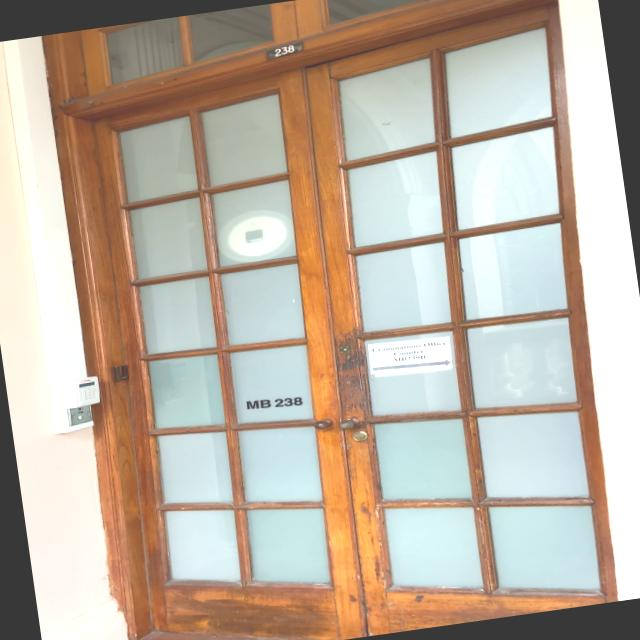room238: (264, 40, 306, 59)
